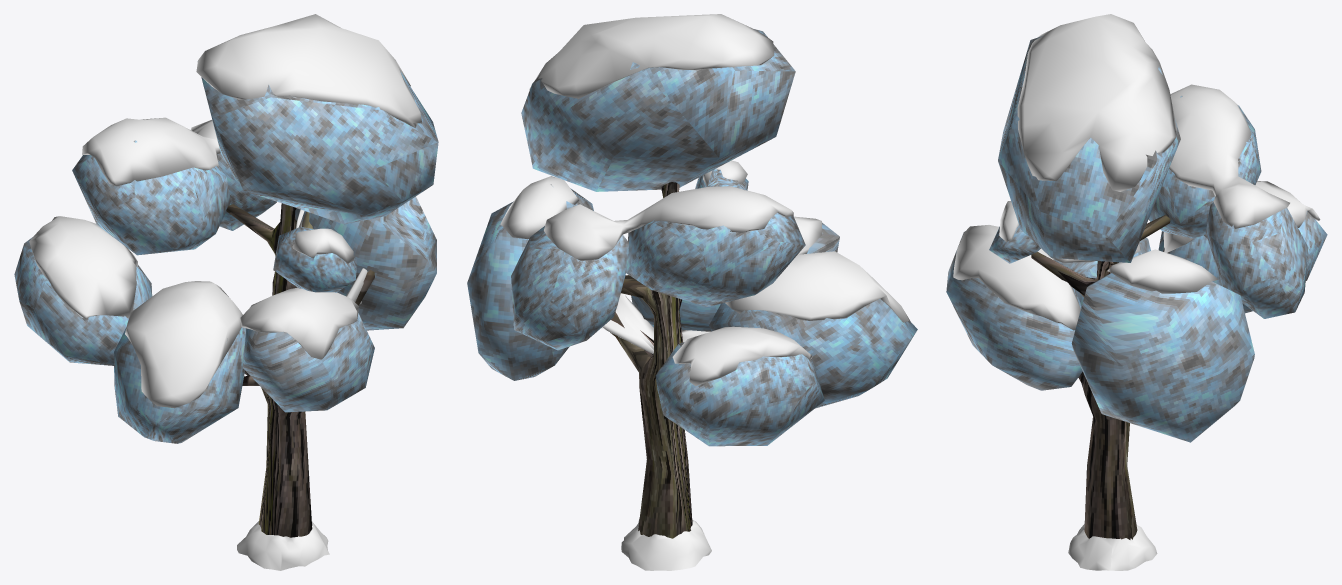
The model's file is Tree.glb.
3 views of the same model, side by side, from view 1: azimuth 30°, elevation 25°; view 2: azimuth 150°, elevation 25°; view 3: azimuth 270°, elevation 25° (orthographic). The views are drawn at different scales.
Visible parts, largest first — view 1: Leaves, SnowBall.001, Bark, SnowBaseOfTree; view 2: Leaves, SnowBall.001, Bark, SnowBaseOfTree, SnowBall.002; view 3: Leaves, SnowBall.001, Bark, SnowBaseOfTree.
Part boxes in pixels (<box>): Leaves: <box>14,61,438,443</box>; SnowBall.001: <box>29,14,422,408</box>; Bark: <box>226,203,374,537</box>; SnowBaseOfTree: <box>237,521,329,570</box>; Leaves: <box>467,28,917,446</box>; SnowBall.001: <box>500,14,909,386</box>; Bark: <box>610,182,692,538</box>; SnowBaseOfTree: <box>621,518,711,570</box>; SnowBall.002: <box>602,293,710,354</box>; Leaves: <box>946,35,1327,442</box>; SnowBall.001: <box>953,14,1320,330</box>; Bark: <box>1031,215,1170,539</box>; SnowBaseOfTree: <box>1068,524,1157,570</box>.
Bounding box in the file's own units: 20.98 × 29.98 × 19.8.
3 materials, 2 textured.
